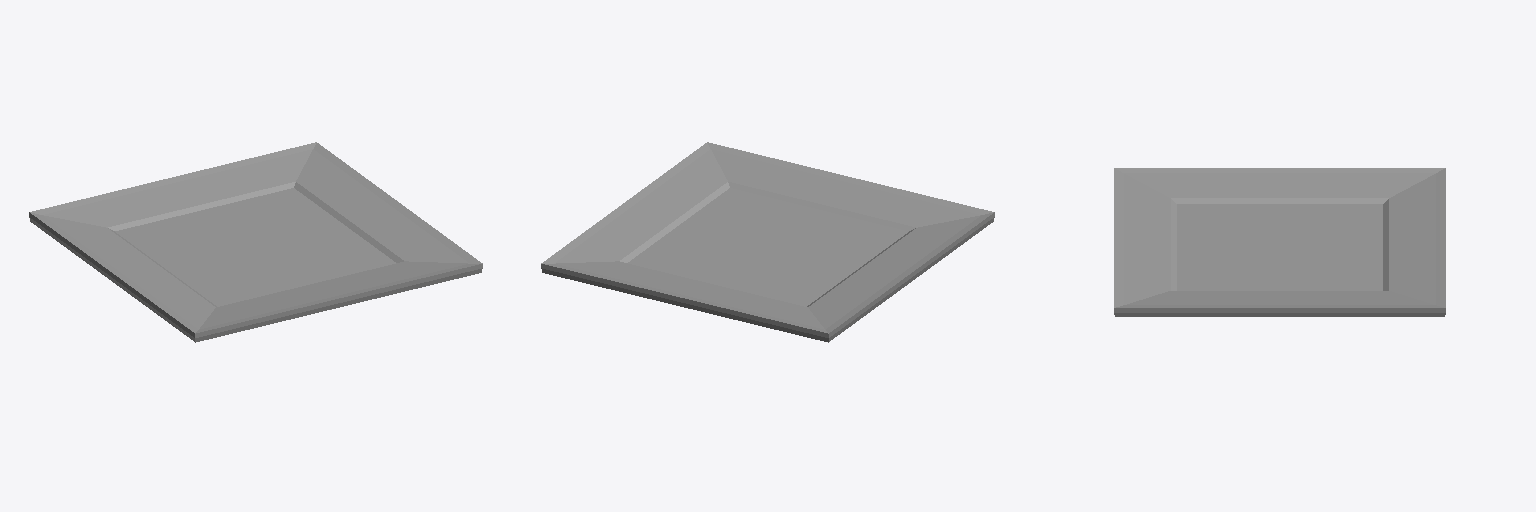
File: plate.obj
3 renders of one model, left to right at view 1: azimuth 30°, elevation 25°; view 2: azimuth 150°, elevation 25°; view 3: azimuth 270°, elevation 25°, orthographic.
Parts seen in each view (by area): view 1: plate_Plate_Square_Large_Cube.002; view 2: plate_Plate_Square_Large_Cube.002; view 3: plate_Plate_Square_Large_Cube.002.
Boxes of the visible parts, x1=… form: plate_Plate_Square_Large_Cube.002: x1=29, y1=142, x2=482, y2=342; plate_Plate_Square_Large_Cube.002: x1=541, y1=142, x2=994, y2=342; plate_Plate_Square_Large_Cube.002: x1=1114, y1=168, x2=1445, y2=316.
Size of the model in its own units: 1.72 by 0.2068 by 1.72.